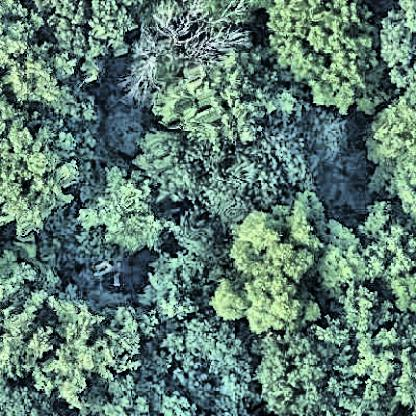tree-top: (1, 290, 158, 397), (218, 201, 342, 335), (265, 1, 401, 116), (145, 128, 305, 221), (159, 43, 290, 148), (1, 110, 86, 235), (86, 160, 178, 255), (253, 325, 338, 416), (45, 1, 141, 81), (133, 1, 239, 73), (356, 91, 416, 216), (166, 312, 249, 398), (347, 290, 404, 385), (353, 197, 416, 278), (6, 40, 77, 107), (145, 244, 217, 306), (381, 1, 416, 94), (1, 382, 58, 416)
